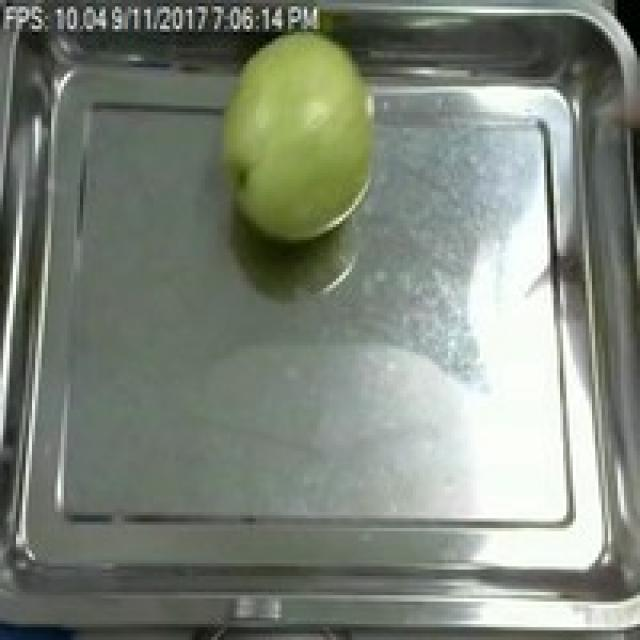Fruit: (198, 19, 390, 253)
